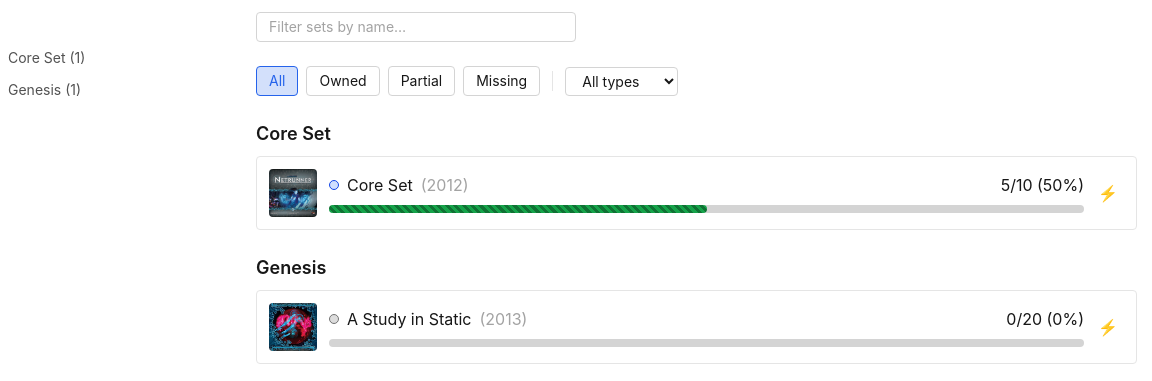
SetProgressList › the "Partial" filter shows only sets owned but short of the full total
The image size is (1152, 381).
What coordinates should you click on to do the following:
click the button "Partial"
I would click on:
 (421, 81)
Its box is [388, 66, 455, 96].
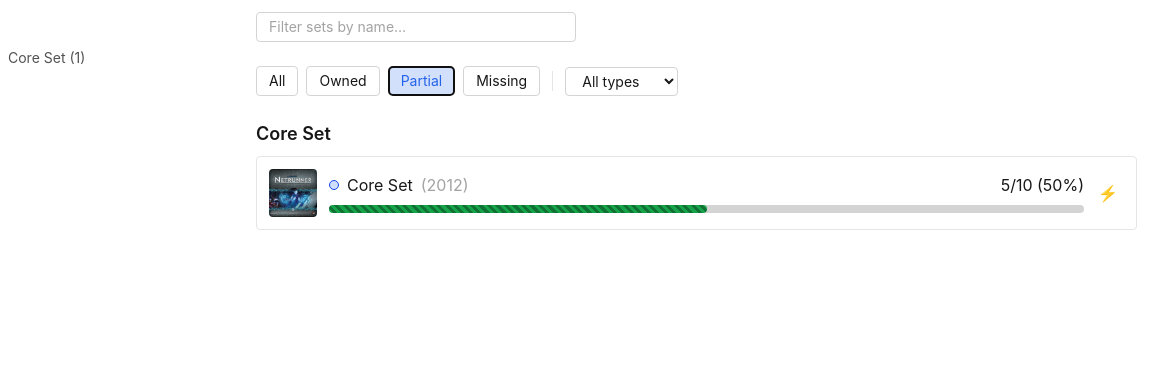
Expected: the text "Core Set" is shown, [347, 175, 413, 195]
Now the link "A Study in Static" is gone
